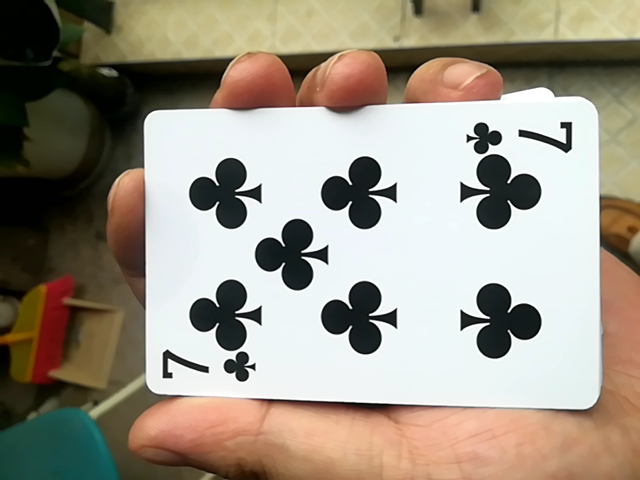mh 7: (127, 101, 591, 419)
